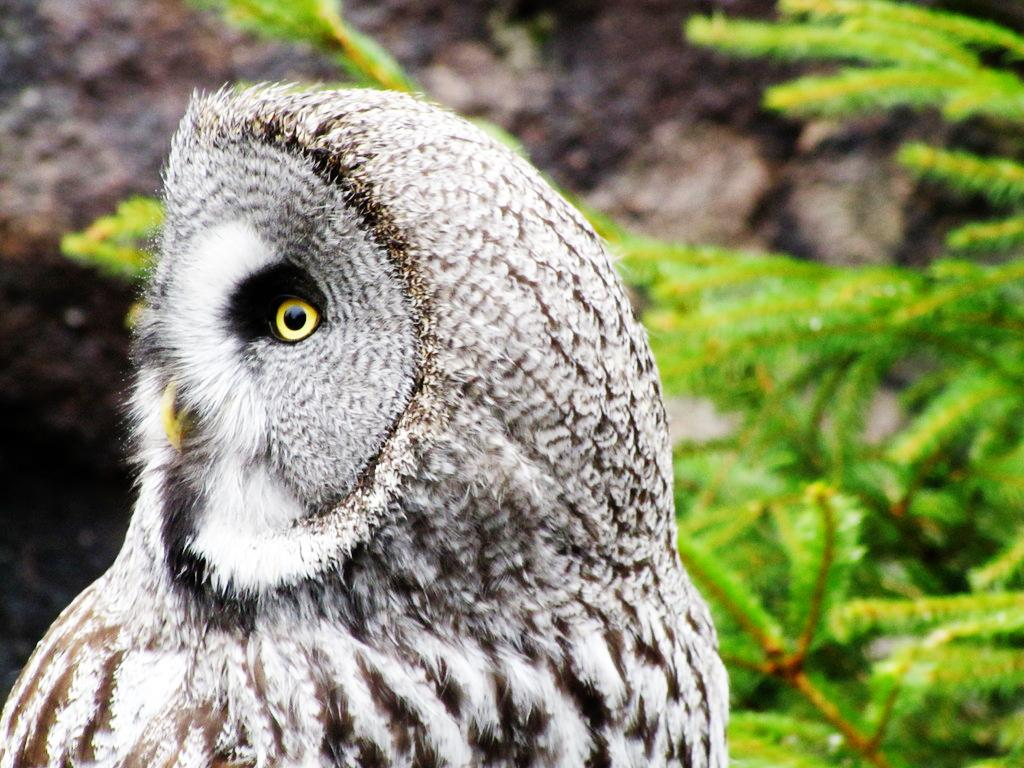Owl: (0, 78, 730, 768)
